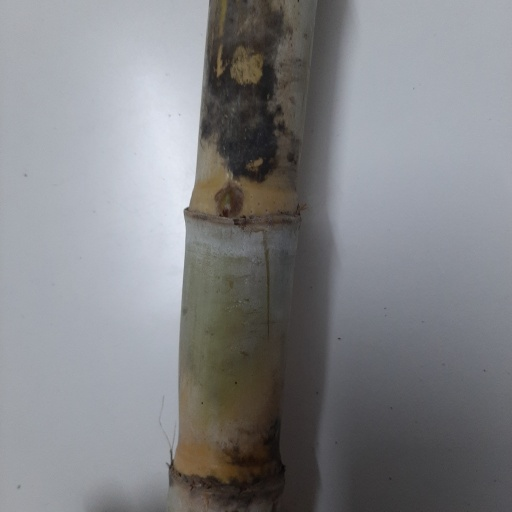Bud: (218, 189, 242, 218)
